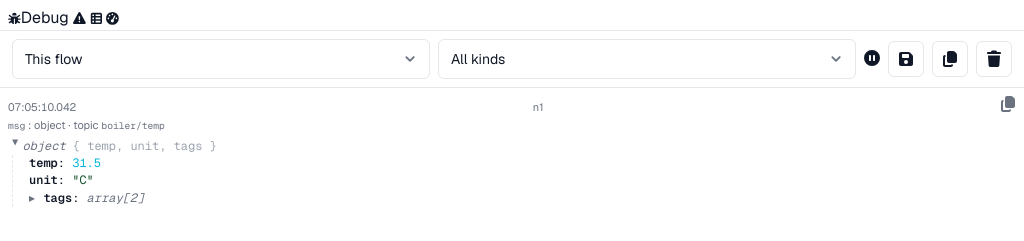
Scenario: Debug tab: the tools row › asks for a block when none is selected
This screenshot has width=1024, height=241.
Select "Selected block" in the dropdown with test id "insight-dbg-source": {"x": 221, "y": 59} [12, 39, 430, 79]
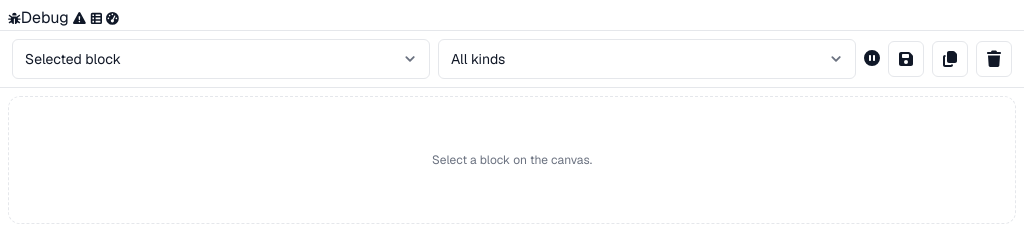
Now the element with test id "insight-dbg-list" reads "Select a block on the canvas.", box [432, 152, 592, 168]
